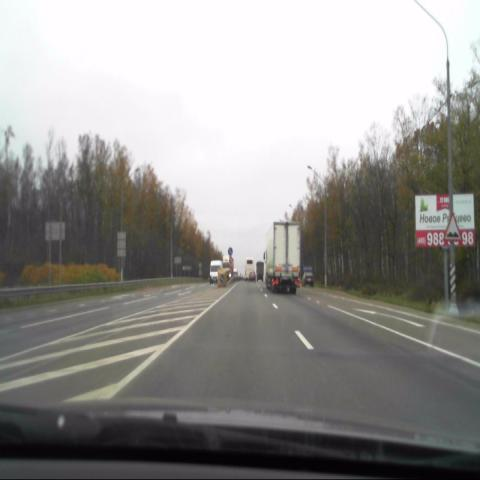1_16: (444, 212, 460, 241)
